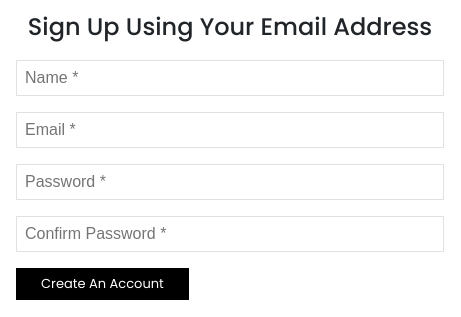
Test: Register page › interactions › displays an error message if the user types an invalid email
Type "myemail@" into the field with placeholder "Email *" at (230, 130), box [16,112,444,148]
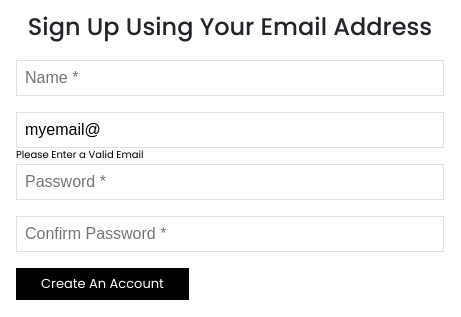
Result: the text "Please Enter a Valid Email" is shown at [16,147,144,163]
